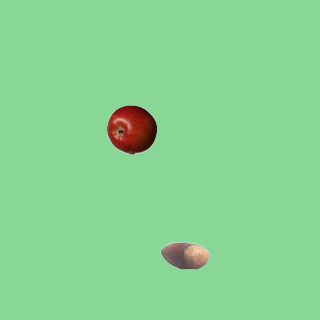Apple Braeburn: (106, 104, 156, 154)
Hazelnut: (159, 230, 209, 280)
